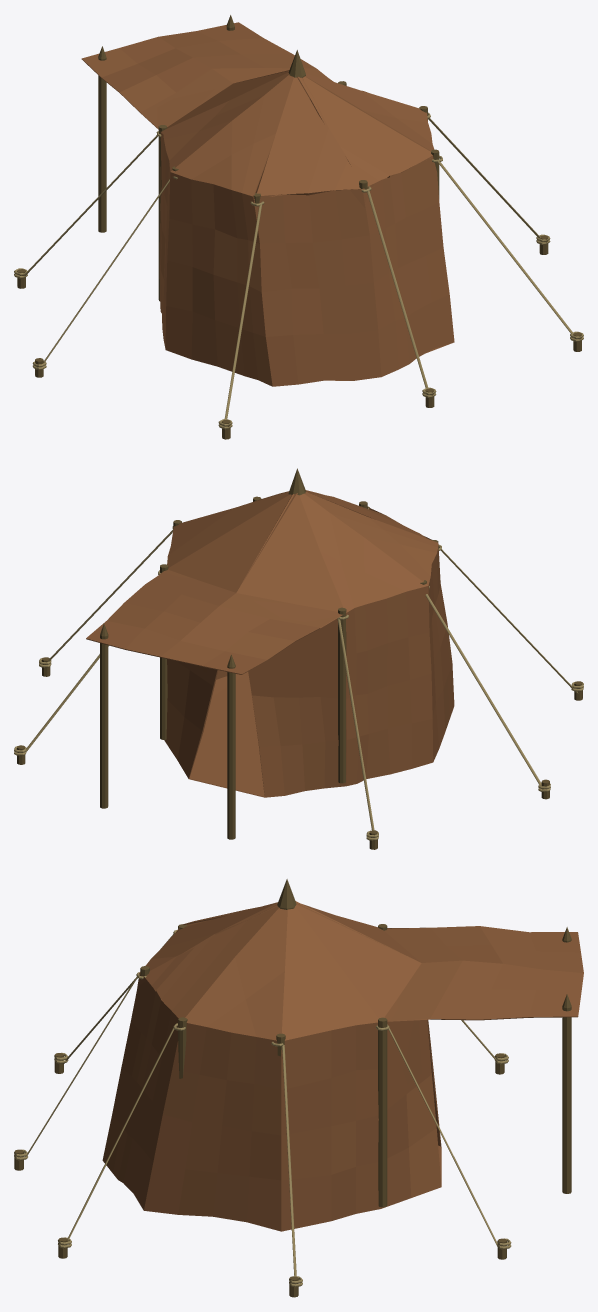
The model's file is Grande_tente.fbx.
3 views of the same model, one above another, from view 1: azimuth 30°, elevation 25°; view 2: azimuth 150°, elevation 25°; view 3: azimuth 270°, elevation 25° (orthographic). The views are drawn at different scales.
Parts seen in each view (by area): view 1: Cylindre.001; view 2: Cylindre.001; view 3: Cylindre.001.
Boxes of the visible parts, x1,y1,x2,y2 form: Cylindre.001: [14, 15, 583, 439]; Cylindre.001: [14, 468, 583, 849]; Cylindre.001: [14, 879, 583, 1297].
Bounding box in the file's own units: 849 × 425 × 759.
